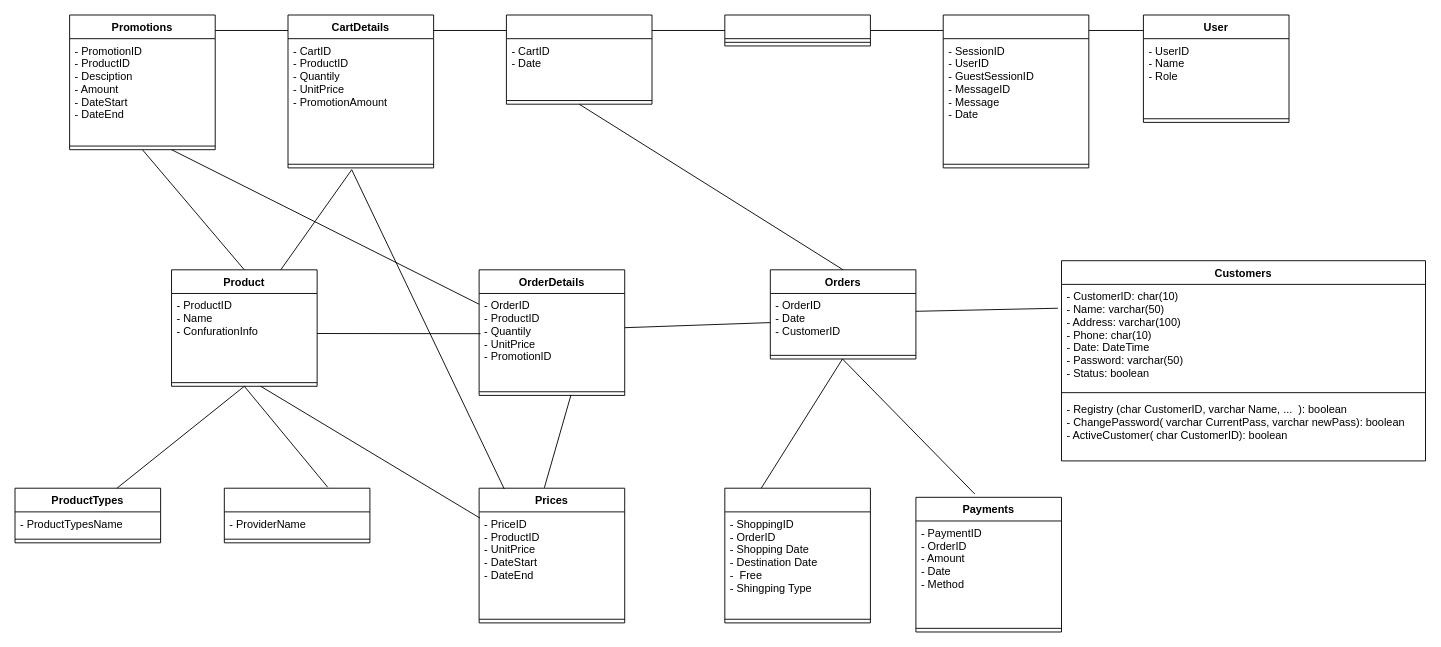
Some shapes in this 1441 by 647 pixel diagram are drawn without their labels. The shapes that lost their labels are listed below. From the top down, each one's box as (x1, y1, x2, y2) in pixels, then its label:
(724, 14, 870, 46): Guests
(506, 14, 652, 104): ShoppingCarts
(942, 14, 1089, 168): ChatSession
(223, 487, 370, 543): Providers
(724, 487, 870, 623): ShippingOders
